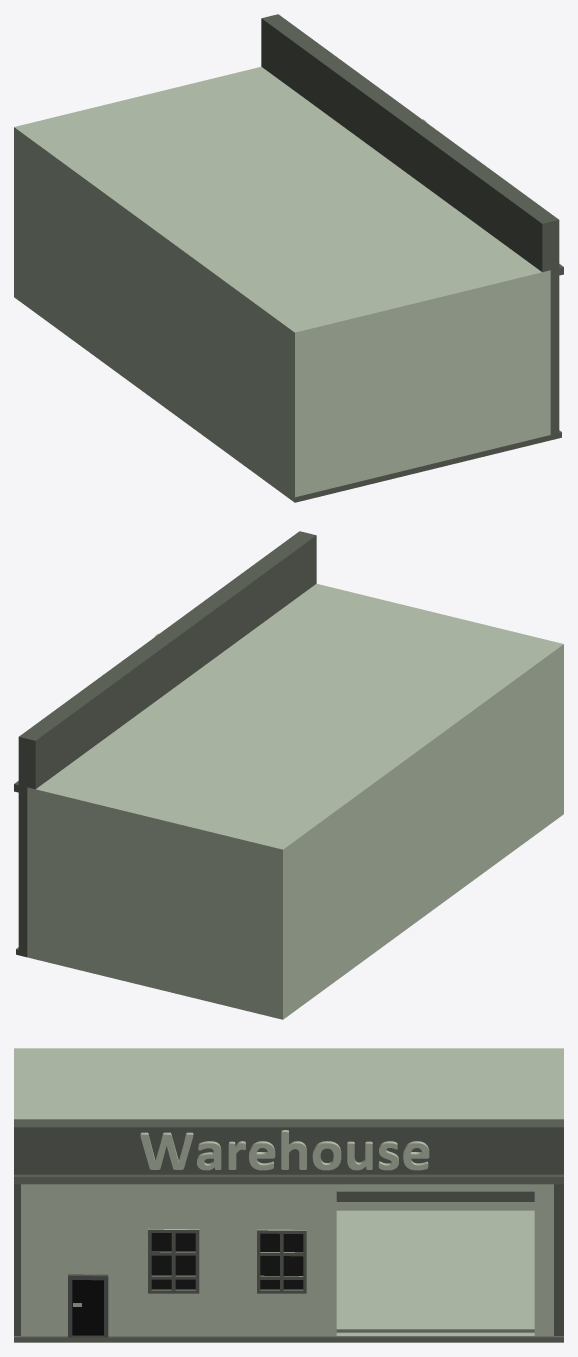
Rendered from Sklad.fbx.
3 renders of one model, top to bottom at view 1: azimuth 30°, elevation 25°; view 2: azimuth 150°, elevation 25°; view 3: azimuth 270°, elevation 25°, orthographic. The views are drawn at different scales.
Parts seen in each view (by area): view 1: Text; view 2: Text; view 3: Text.
Boxes of the visible parts, <box> form: Text: <box>14,14,563,502</box>; Text: <box>14,531,563,1019</box>; Text: <box>14,1048,563,1342</box>.
Size of the model in its own units: 980 by 760 by 1771.
